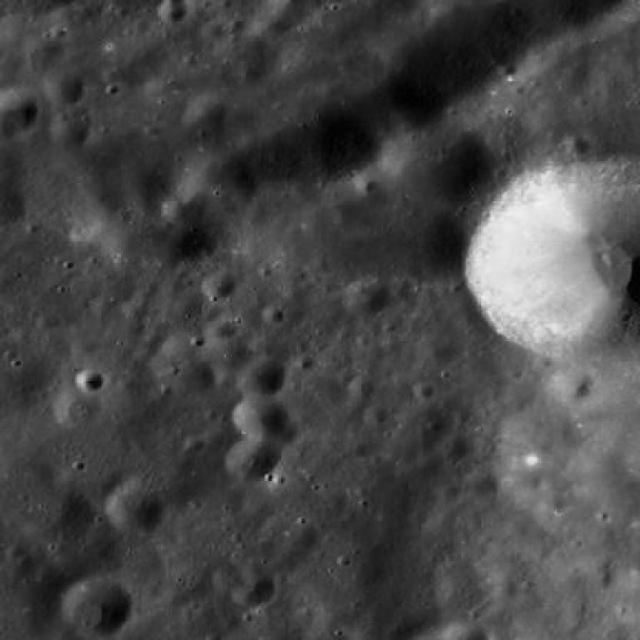crater: (385, 117, 490, 205), (62, 577, 136, 637), (22, 484, 95, 544), (157, 332, 226, 390), (192, 151, 254, 204), (106, 482, 166, 532), (226, 435, 280, 480), (236, 356, 286, 399), (233, 396, 284, 438), (52, 386, 102, 428), (229, 568, 277, 608), (204, 333, 250, 372), (346, 278, 392, 316), (0, 88, 37, 132), (548, 368, 590, 406), (163, 193, 206, 227), (418, 332, 460, 366), (186, 96, 227, 130), (46, 70, 86, 104), (51, 114, 91, 146), (248, 10, 286, 42), (202, 270, 238, 299), (26, 34, 60, 63), (214, 566, 248, 594), (268, 546, 301, 574), (466, 470, 497, 496), (267, 418, 298, 444), (288, 522, 317, 546), (438, 434, 466, 458), (76, 368, 104, 392), (208, 318, 234, 340), (161, 0, 187, 22), (415, 454, 440, 476), (364, 406, 390, 426), (348, 376, 372, 396), (202, 19, 226, 39), (566, 133, 588, 153), (263, 305, 285, 324), (538, 496, 560, 514), (184, 434, 204, 452), (414, 380, 434, 397), (1, 0, 2, 1)
